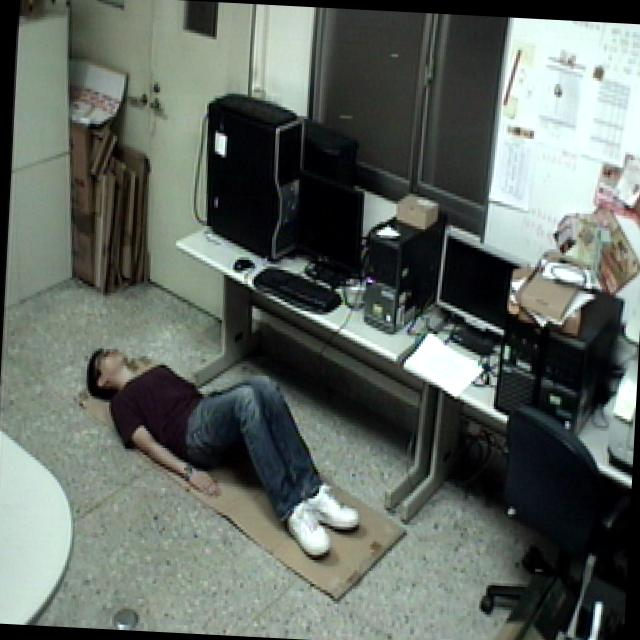lie: (65, 328, 372, 578)
